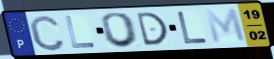C: (27, 13, 67, 52)
D: (134, 11, 170, 47)
L: (176, 11, 211, 46), (63, 15, 97, 49)
M: (204, 7, 249, 45)
O: (100, 11, 142, 49)
